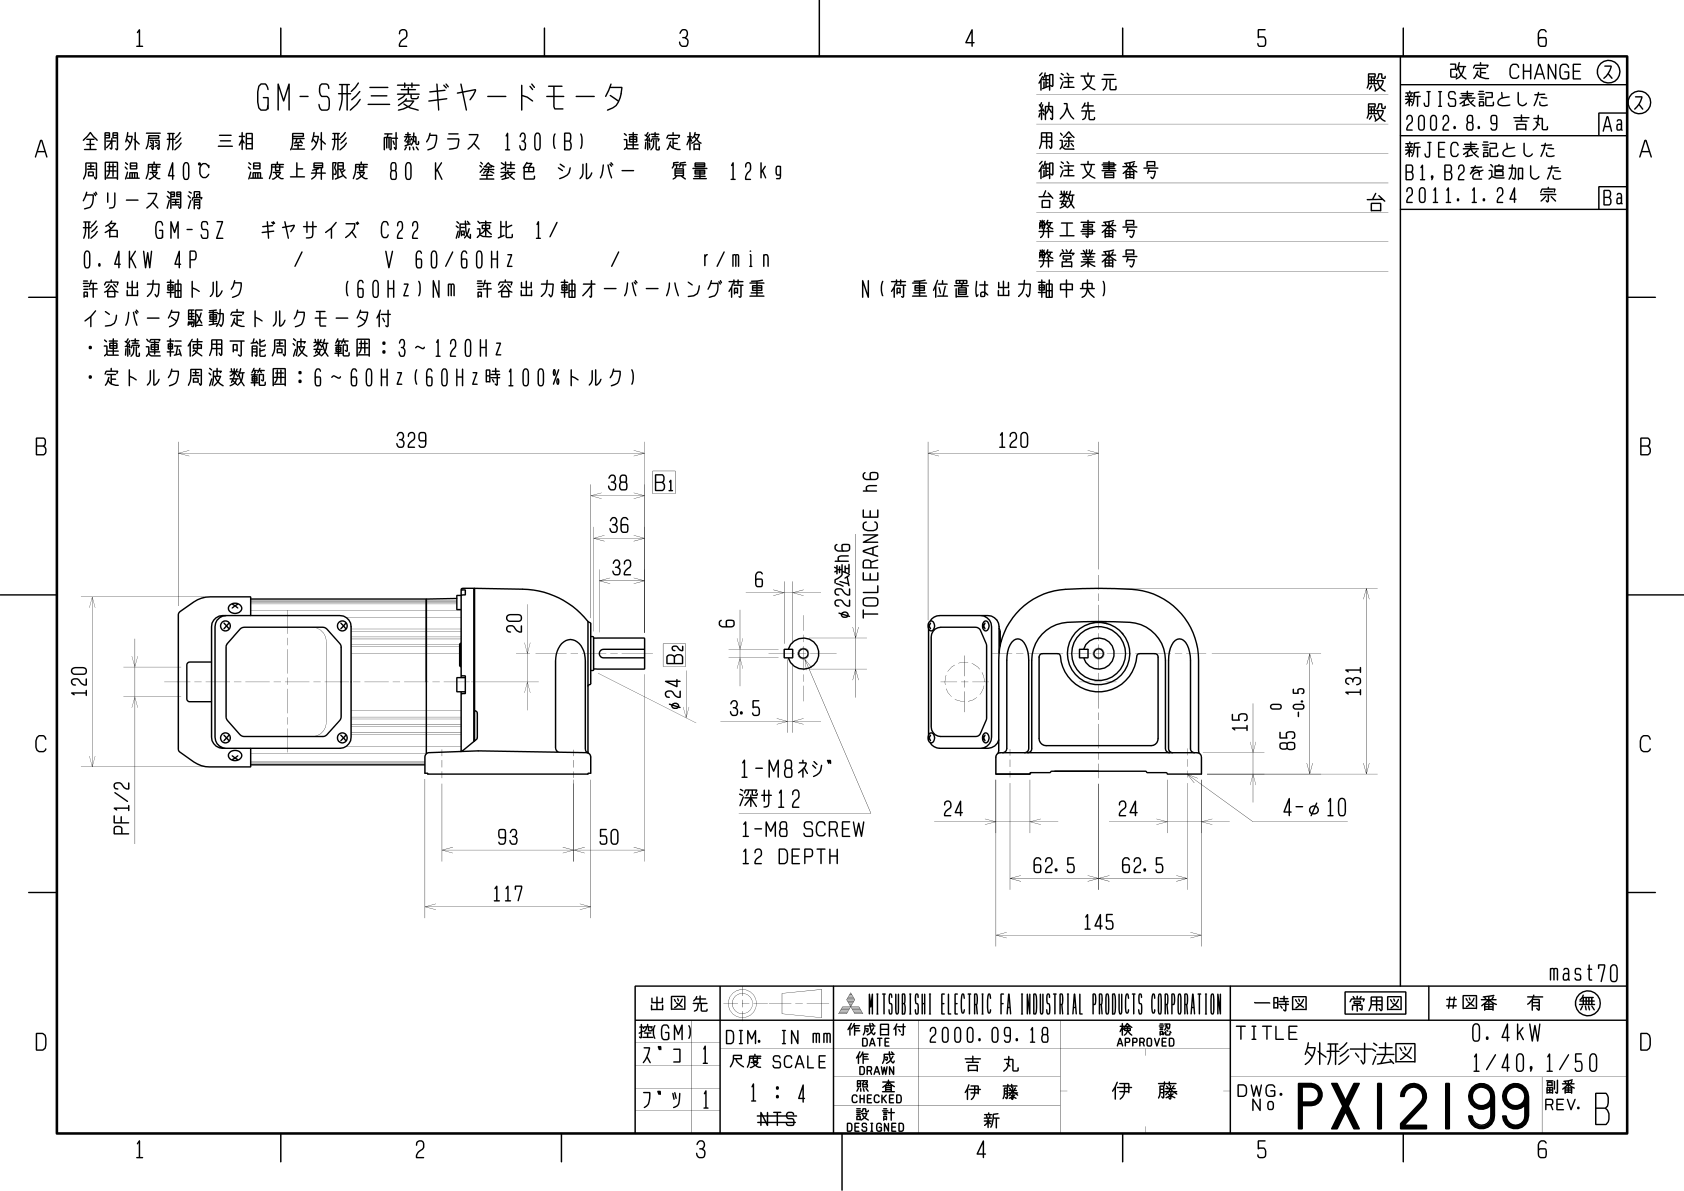GM_S_インバタ屋外＿三相_脚: (58, 409, 1389, 951)
